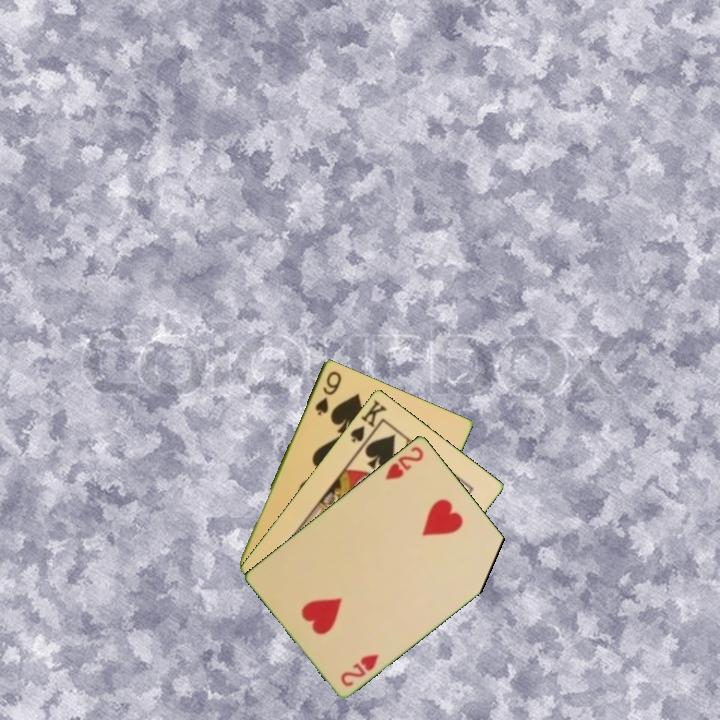2h: (382, 442, 426, 482), (337, 650, 382, 689)
9s: (311, 367, 344, 418)
Ks: (346, 396, 390, 451)
